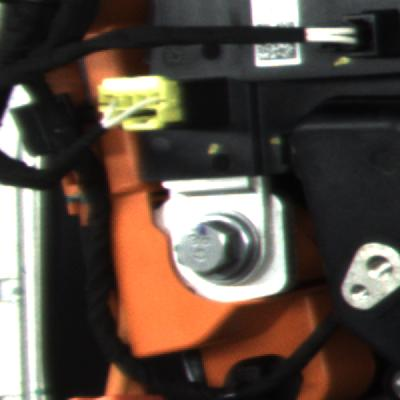nut_b: (166, 200, 274, 298)
